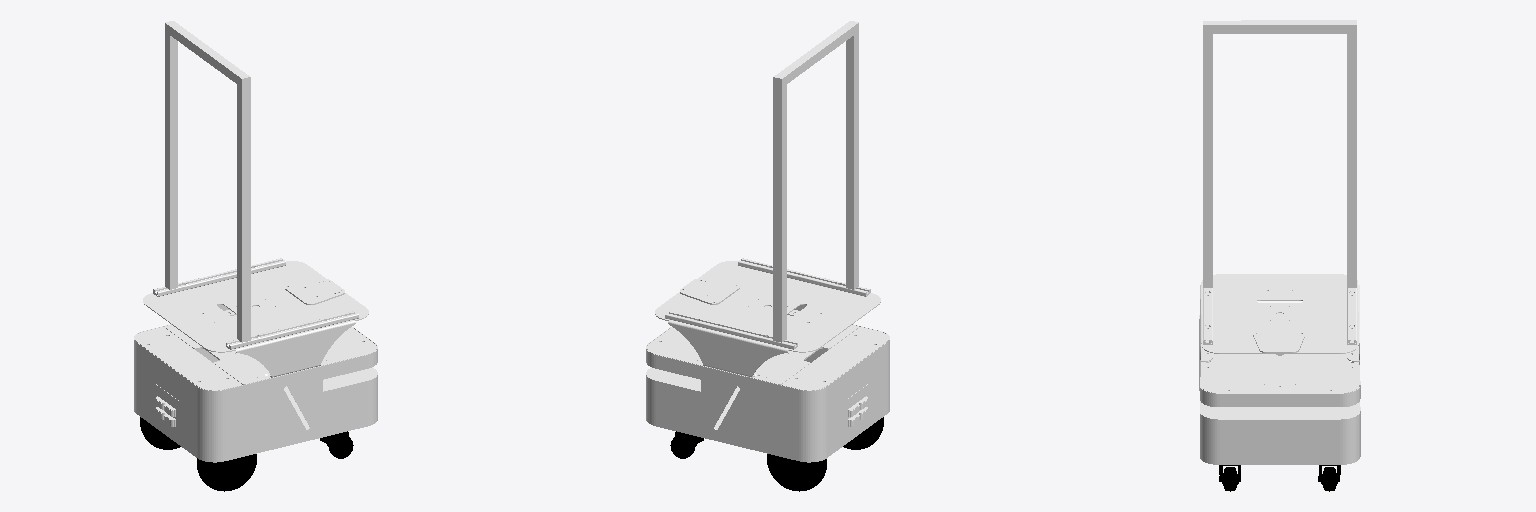
URDF robot description (wheeltec_robot):
<?xml version="1.0" encoding="utf-8"?>
<robot name="wheeltec_robot">

    <link name="base_link">
        <visual>
            <origin xyz=" 0 0 0.06" rpy="0 0 3.142" />
            <geometry>
                <mesh
                    filename="package://wheeltec_robot_urdf/meshes/bases/body.stl" scale="0.001 0.001 0.001"/>
            </geometry>
            <material name="white">
                <color rgba="1 1 1 1"/>
            </material>
        </visual>
    </link>   

    <joint name="left_wheel_joint" type="continuous">
        <origin xyz="0 0 0" rpy="0 0 0"/>
        <parent link="base_link"/>
        <child link="left_wheel_link"/>
        <axis xyz="0 1 0"/>
    </joint>

    <link name="left_wheel_link">
        <visual>
            <origin xyz="0 0 0" rpy="0 0 0" />
            <geometry>
                <mesh
                    filename="package://wheeltec_robot_urdf/meshes/wheels/left_wheel.stl" scale="0.001 0.001 0.001"/>
            </geometry>
            <material name="black">
                <color rgba="0 0 0 1"/>
            </material>
        </visual>
    </link>

    <joint name="right_wheel_joint" type="continuous">
        <origin xyz="0 0 0" rpy="0 0 0"/>
        <parent link="base_link"/>
        <child link="right_wheel_link"/>
        <axis xyz="0 1 0"/>
    </joint>

    <link name="right_wheel_link">
        <visual>
            <origin xyz="0 0 0" rpy="0 0 0" />
            <geometry>
                <mesh
                    filename="package://wheeltec_robot_urdf/meshes/wheels/right_wheel.stl" scale="0.001 0.001 0.001"/>
            </geometry>
            <material name="black">
                <color rgba="0 0 0 1"/>
            </material>
        </visual>
    </link>

      <joint name="left_front_joint" type="continuous">
        <origin xyz="0 0 0" rpy="0 0 0"/>
        <parent link="base_link"/>
        <child link="left_front_link"/>
        <axis xyz="0 1 0"/>
    </joint>

    <link name="left_front_link">
        <visual>
            <origin xyz="0 0 0" rpy="0 0 0" />
            <geometry>
                <mesh
                    filename="package://wheeltec_robot_urdf/meshes/wheels/caster_left.stl" scale="0.001 0.001 0.001"/>
            </geometry>
            <material name="black">
                <color rgba="0 0 0 1"/>
            </material>
        </visual>
    </link>

    <joint name="right_front_joint" type="continuous">
        <origin xyz="0.0 0 0" rpy="0 0 0"/>
        <parent link="base_link"/>
        <child link="right_front_link"/>
        <axis xyz="0 1 0"/>
    </joint>

    <link name="right_front_link">
        <visual>
            <origin xyz="0 0 0" rpy="0 0 0" />
            <geometry>
                <mesh
                    filename="package://wheeltec_robot_urdf/meshes/wheels/caster_right.stl" scale="0.001 0.001 0.001"/>
            </geometry>
            <material name="black">
                <color rgba="0 0 0 1"/>
            </material>
        </visual>
    </link>


</robot>

--- Render facts (derived) ---
3 views of the same robot in one strip: view 1: azimuth 30°, elevation 25°; view 2: azimuth 150°, elevation 25°; view 3: azimuth 270°, elevation 25° (orthographic).
Model wheeltec_robot with 5 links and 4 joints (4 continuous), rooted at base_link, posed all joints at 0.
Links seen in each view (by area): view 1: base_link, left_wheel_link, left_front_link, right_wheel_link; view 2: base_link, right_wheel_link, right_front_link, left_wheel_link; view 3: base_link.
Link boxes in pixels (x1,y1,x2,y2): base_link: (134, 21, 377, 462); left_wheel_link: (197, 454, 256, 491); left_front_link: (320, 431, 353, 458); right_wheel_link: (140, 417, 180, 449); base_link: (646, 21, 889, 462); right_wheel_link: (767, 454, 826, 491); right_front_link: (670, 431, 703, 458); left_wheel_link: (843, 417, 883, 449); base_link: (1199, 20, 1360, 464).
Bounding box of the posed robot: 0.4266 × 0.3271 × 0.932 m (x, y, z).
Meshes: 5 distinct files referenced, 5 mesh visuals loaded (5 binary STL).
